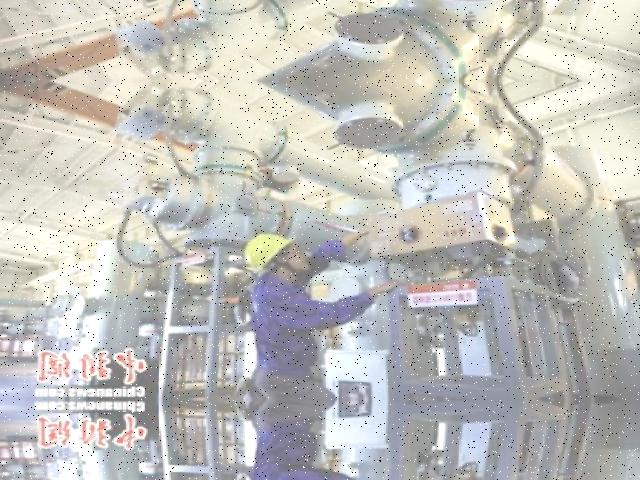Helmet: (240, 231, 299, 274)
